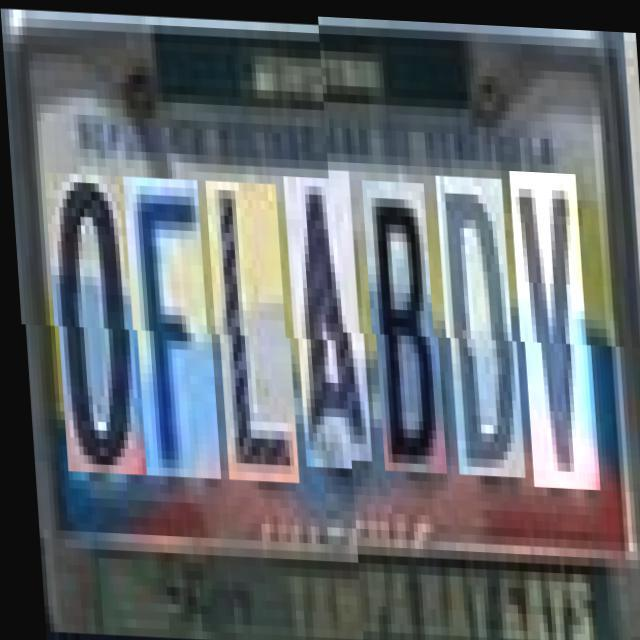A: (285, 173, 366, 466)
B: (364, 185, 441, 478)
D: (438, 180, 520, 481)
F: (125, 175, 215, 477)
L: (208, 179, 294, 480)
O: (46, 172, 140, 474)
V: (512, 175, 595, 492)
